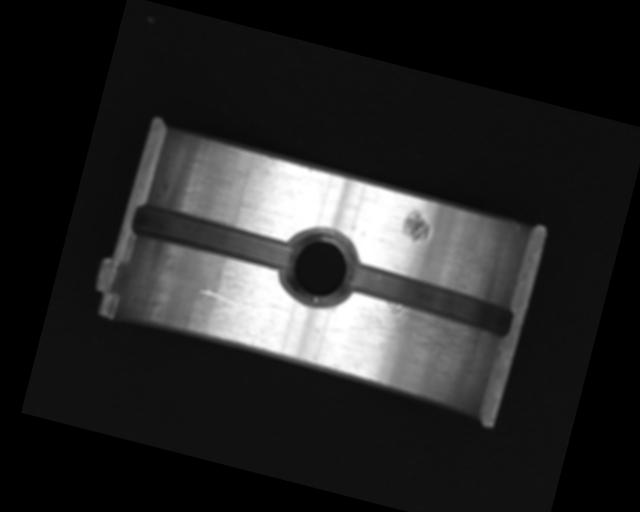bruise: (398, 206, 434, 245)
gap: (341, 259, 517, 340), (129, 201, 298, 277)
hole: (275, 220, 360, 314)
nick: (197, 287, 255, 311)
scratch: (329, 288, 495, 392)
